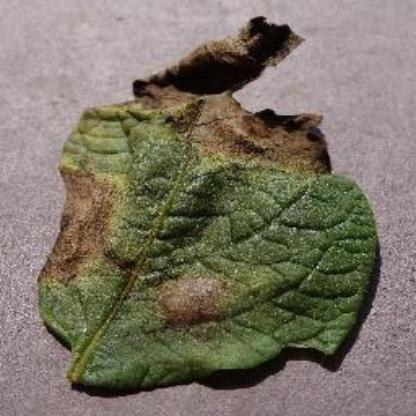Late-Blight: (27, 7, 384, 400)
